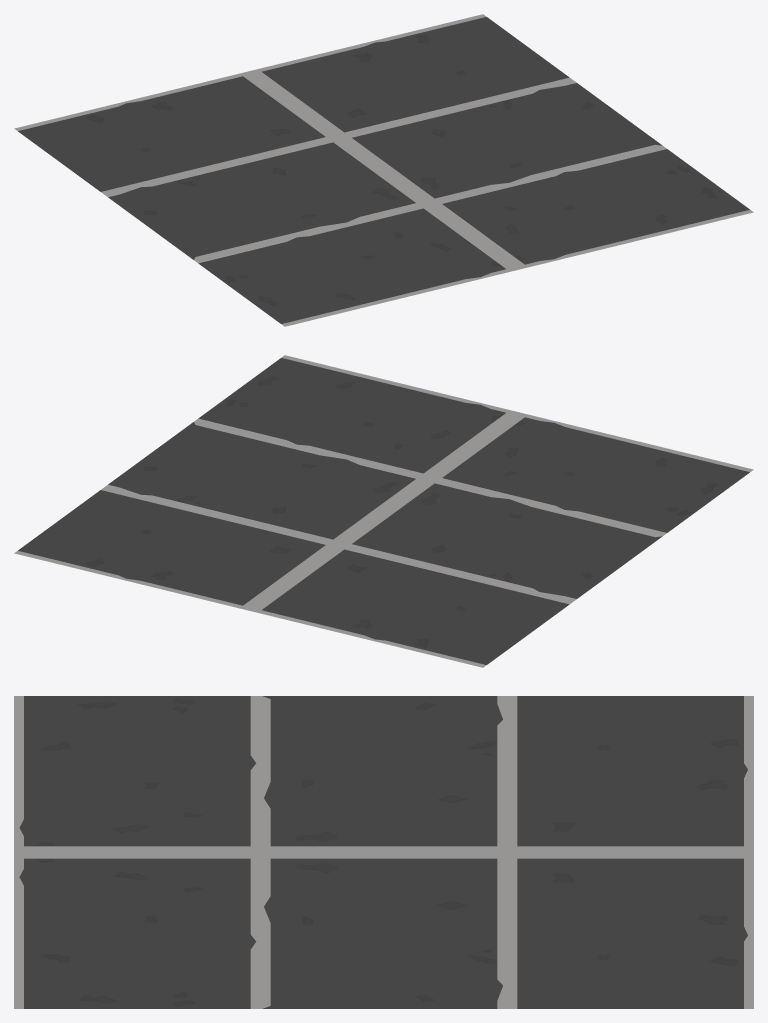
Rendered from SM_Gen_Env_Road_Parking_03.fbx.
The picture shows the model from 3 angles, top to bottom: view 1: azimuth 30°, elevation 25°; view 2: azimuth 150°, elevation 25°; view 3: azimuth 270°, elevation 25°; orthographic projection. The views are drawn at different scales.
Parts seen in each view (by area): view 1: SM_Gen_Env_Road_Parking_03; view 2: SM_Gen_Env_Road_Parking_03; view 3: SM_Gen_Env_Road_Parking_03.
Boxes of the visible parts, x1,y1,x2,y2 form: SM_Gen_Env_Road_Parking_03: (14,14,753,326); SM_Gen_Env_Road_Parking_03: (14,355,753,667); SM_Gen_Env_Road_Parking_03: (14,696,753,1008).
Size of the model in its own units: 1000 by 0 by 1000.
